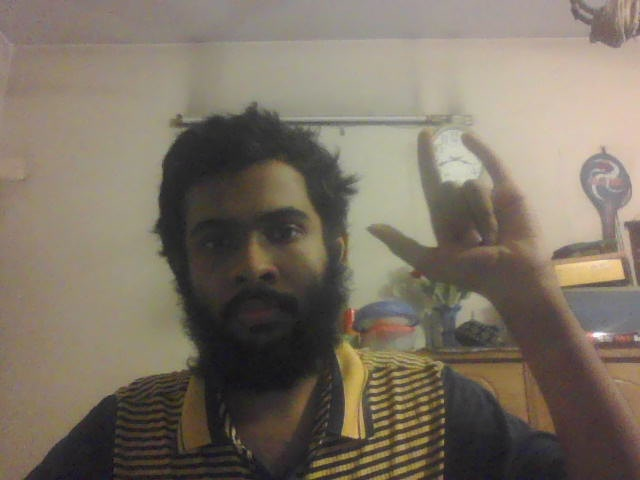I Love You: (369, 126, 546, 292)
